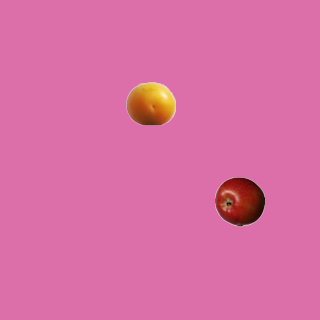Apple Braeburn: (214, 176, 264, 226)
Cherry Wax Yellow: (125, 78, 175, 128)
